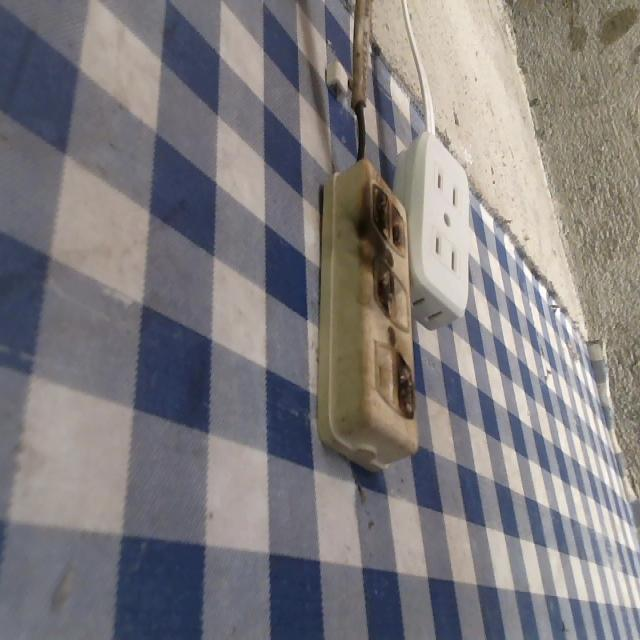-: (361, 173, 417, 252), (386, 340, 423, 428), (366, 258, 397, 314)
